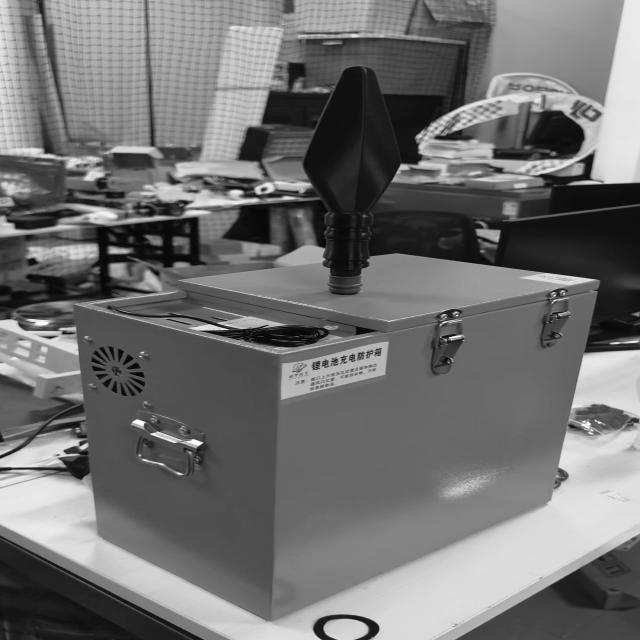base: (327, 272, 363, 296)
